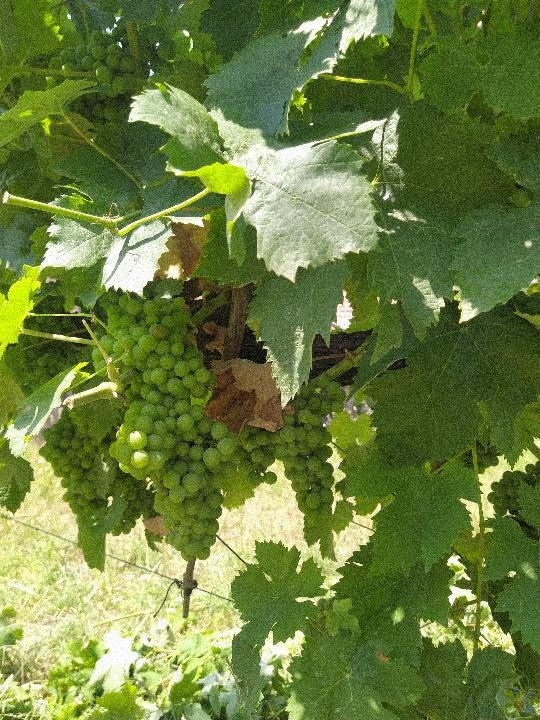grape: (106, 389, 241, 563), (249, 372, 348, 528), (97, 292, 218, 400)
